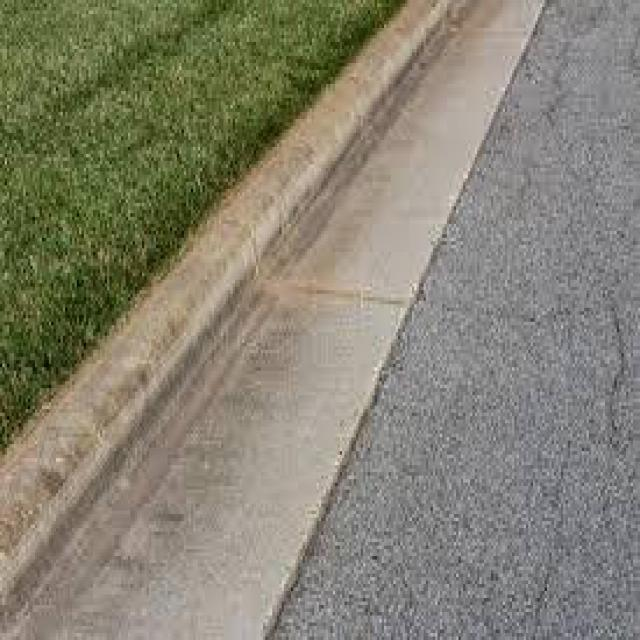bump: (0, 205, 254, 582), (250, 33, 398, 217)
